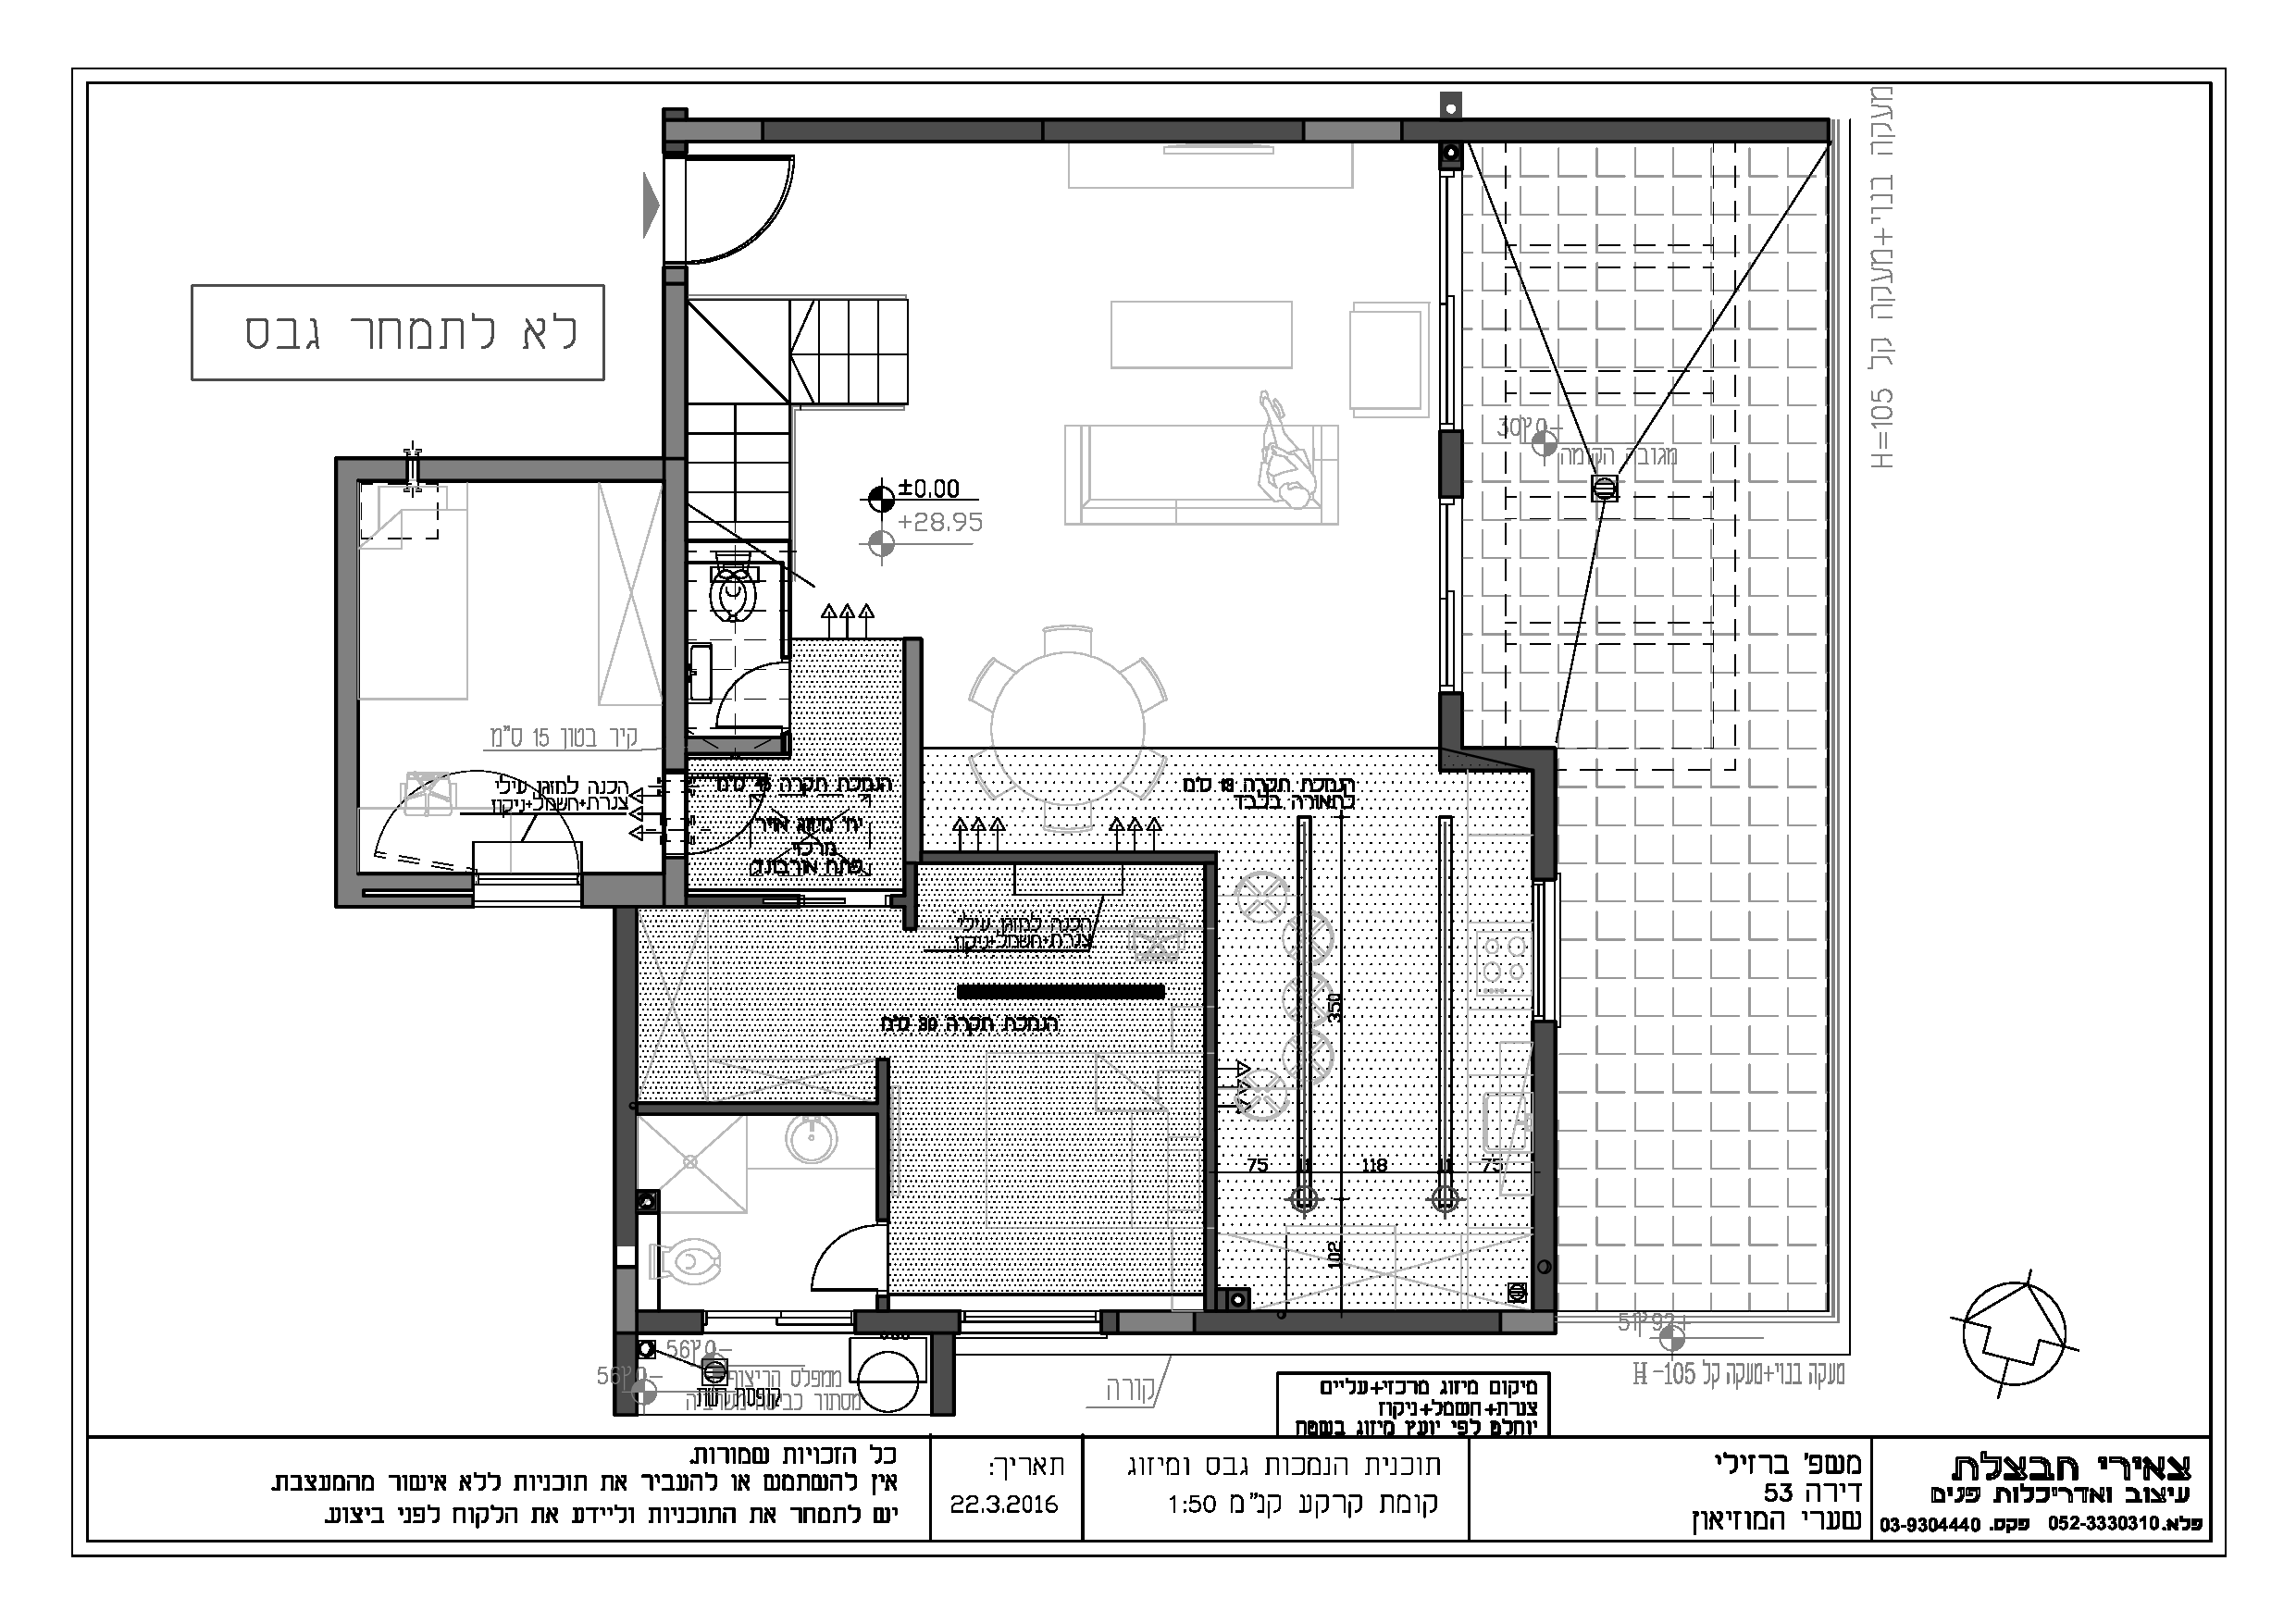door: (697, 142, 810, 274), (799, 1210, 871, 1309)
wall: (337, 462, 355, 878), (668, 462, 685, 771), (1418, 123, 1799, 137), (1534, 1040, 1555, 1263), (618, 913, 632, 1238), (1054, 123, 1295, 141), (778, 125, 1007, 139), (908, 643, 919, 862), (669, 286, 682, 451)
window: (1430, 165, 1465, 432), (1430, 497, 1470, 696), (473, 868, 581, 924), (959, 1307, 1101, 1345), (1527, 878, 1563, 1024)
